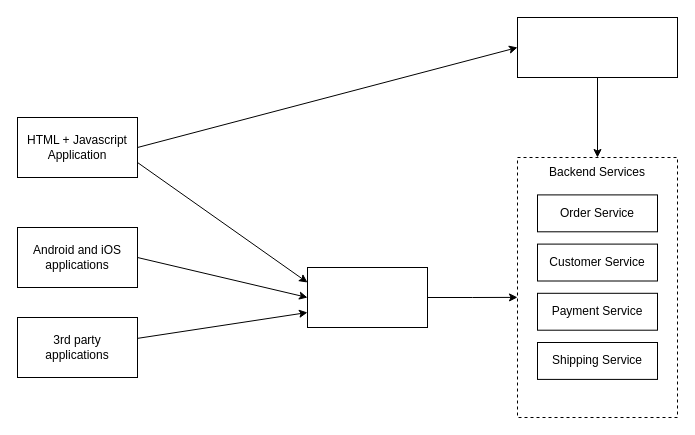
Some shapes in this 695 by 435 pixel diagram are drawn without their labels. The centre of each missing label's shape, as x and y in pixels:
API Gateway: [367,297]
Web Application: [597,47]
